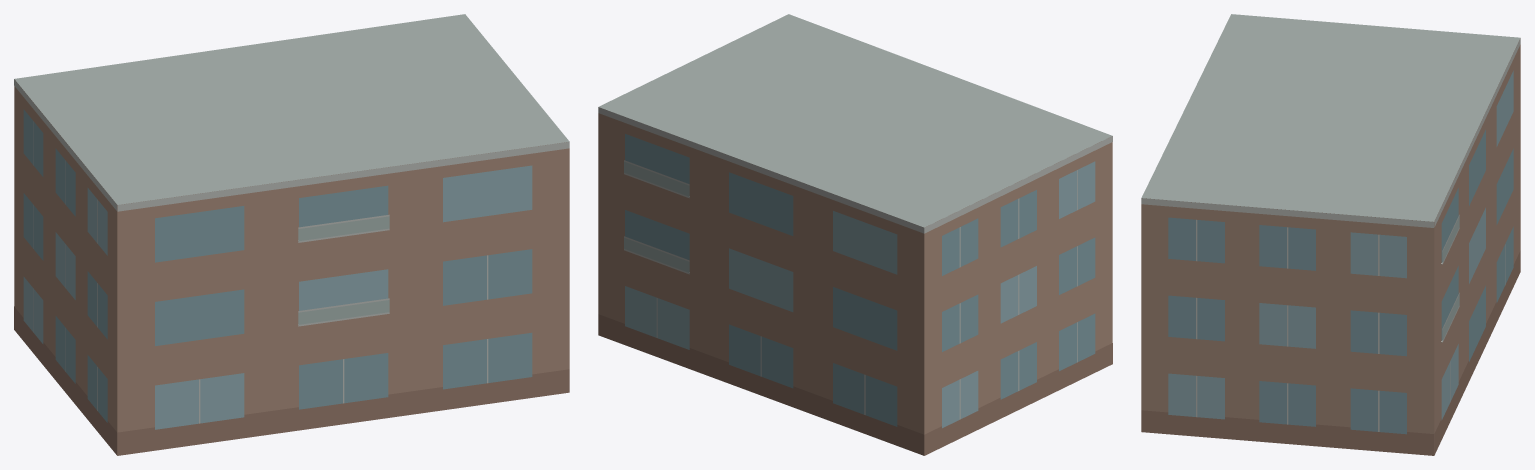
The model's file is survey-upis-32758945.glb.
3 views of the same model, side by side, from view 1: azimuth 30°, elevation 25°; view 2: azimuth 150°, elevation 25°; view 3: azimuth 270°, elevation 25° (orthographic). The views are drawn at different scales.
Parts seen in each view (by area): view 1: survey-upis-32758945.tmp; view 2: survey-upis-32758945.tmp; view 3: survey-upis-32758945.tmp.
Boxes of the visible parts, x1,y1,x2,y2 form: survey-upis-32758945.tmp: [14, 14, 569, 455]; survey-upis-32758945.tmp: [598, 14, 1112, 455]; survey-upis-32758945.tmp: [1141, 14, 1520, 455].
Size of the model in its own units: 17.44 by 9.15 by 13.45.
